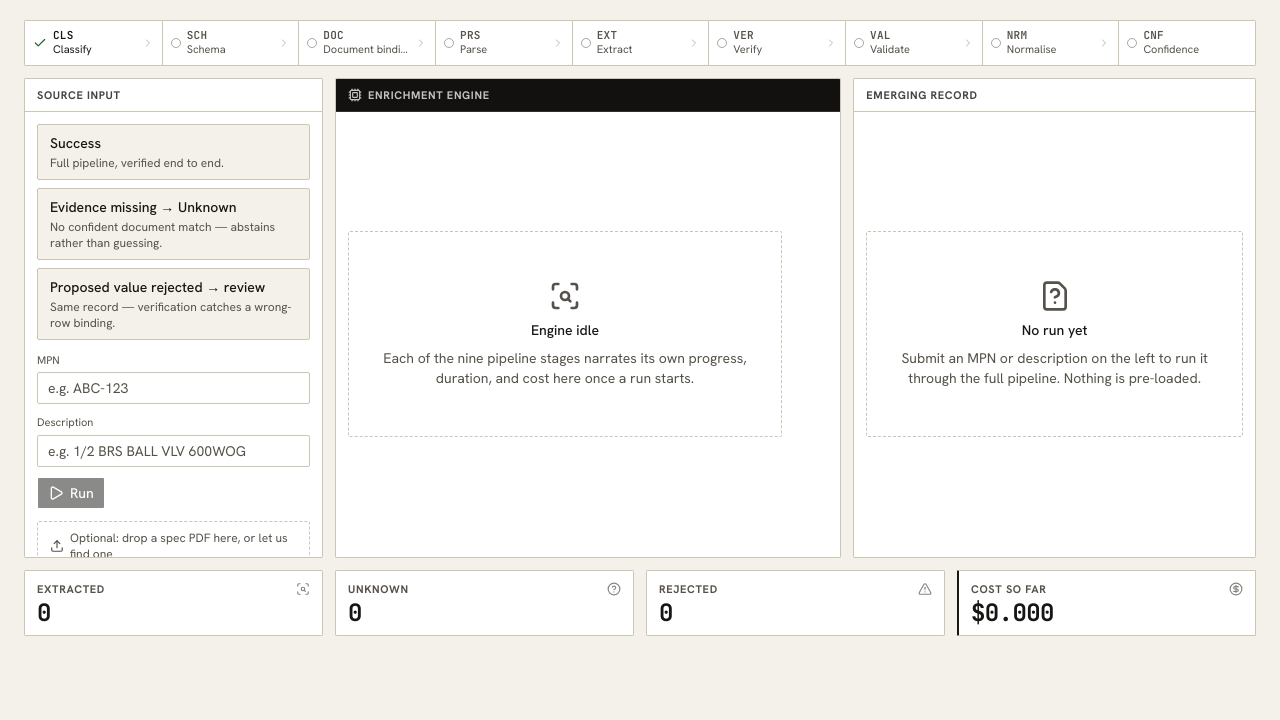
JudgeView › shows the stage timeline and a Cancel action once a run is active and running
The width and height of the screenshot is (1280, 720).
Click the button "Success Full pipeline, verified end to end.".
click(174, 152)  # box [37,124,310,180]
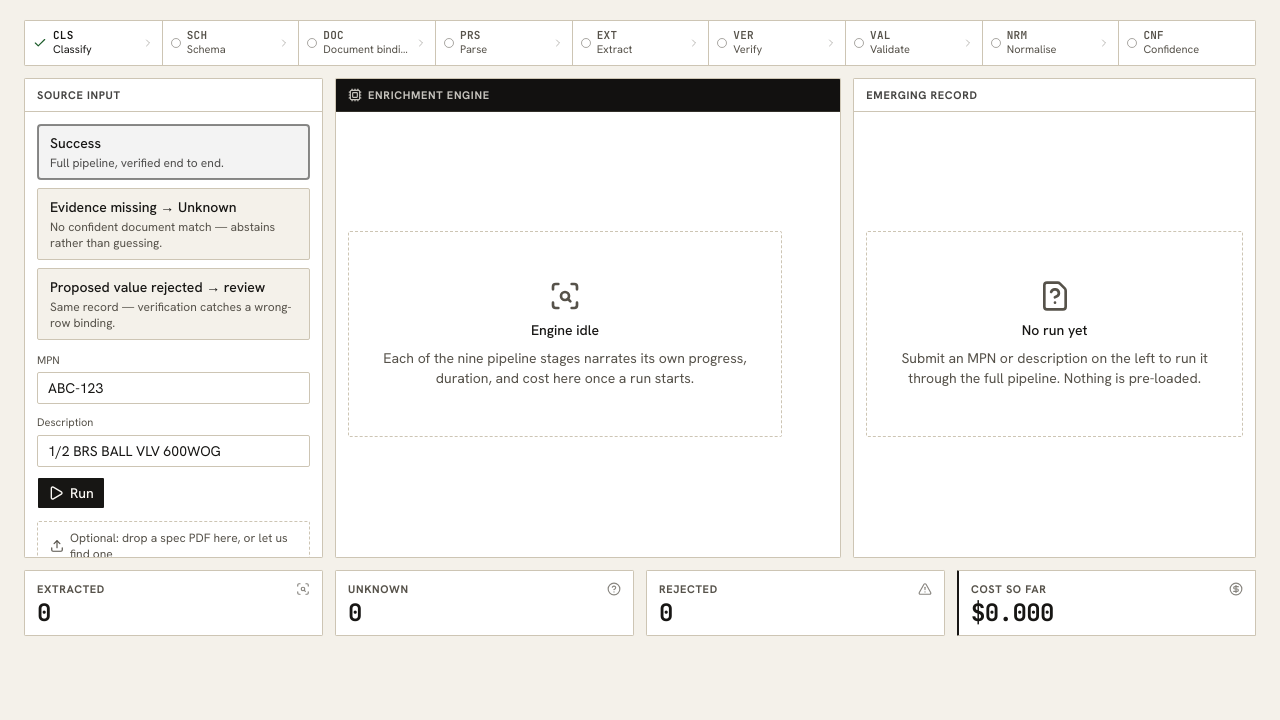
Click the button "Run".
click(71, 492)  # box [37,476,105,508]
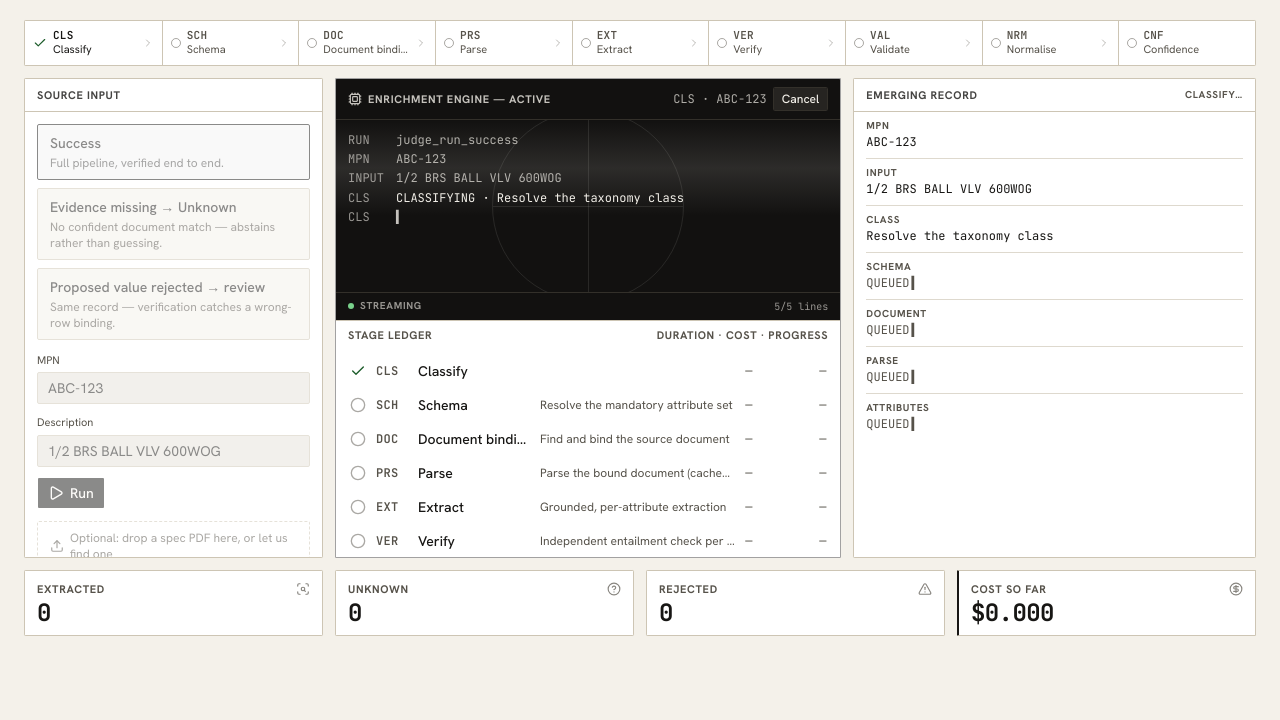
Result: the button "Cancel" is shown at [773,86,828,110]
